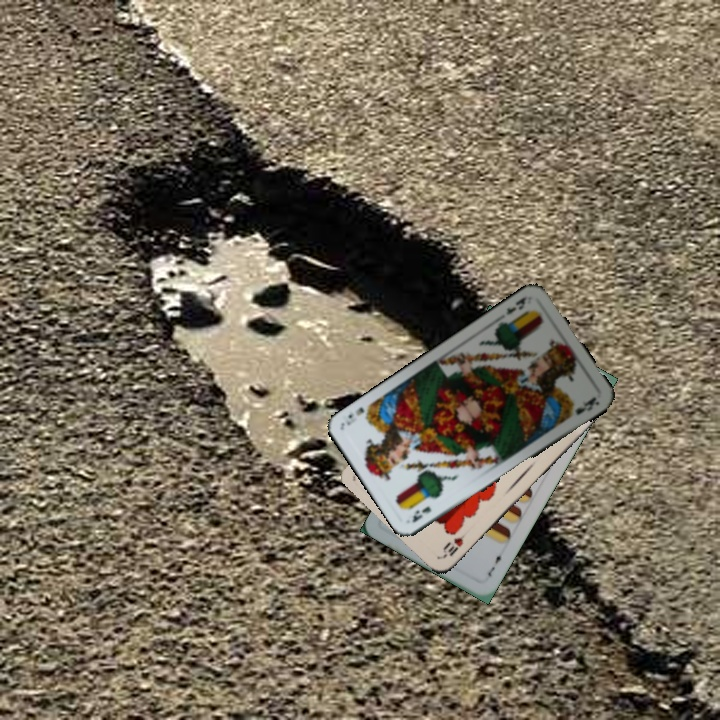E7: (483, 548, 506, 579)
EK: (501, 292, 531, 318), (408, 502, 434, 525)
H10: (439, 527, 471, 560)
